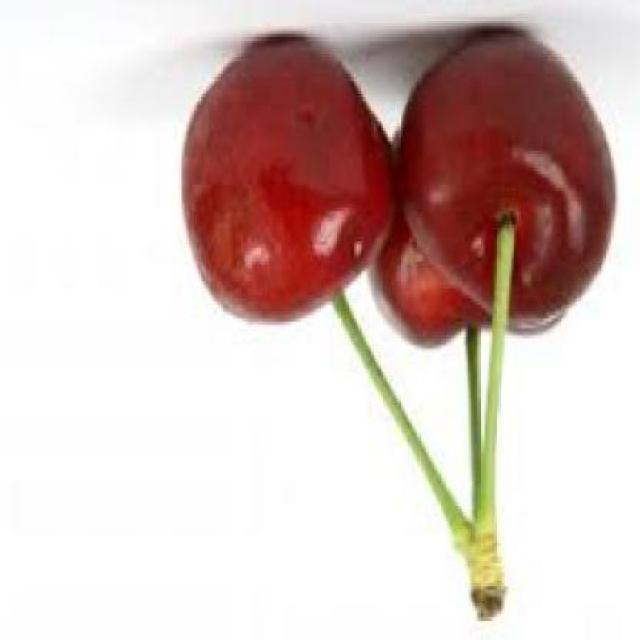BIODEGRADABLE: (332, 214, 515, 618), (399, 28, 614, 329), (182, 34, 394, 319), (372, 197, 489, 346)
